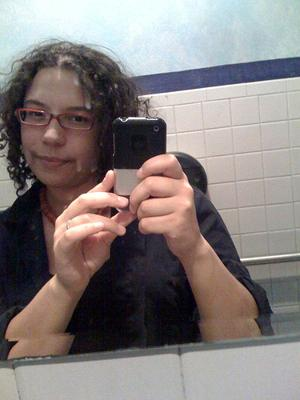person: (2, 38, 274, 360)
